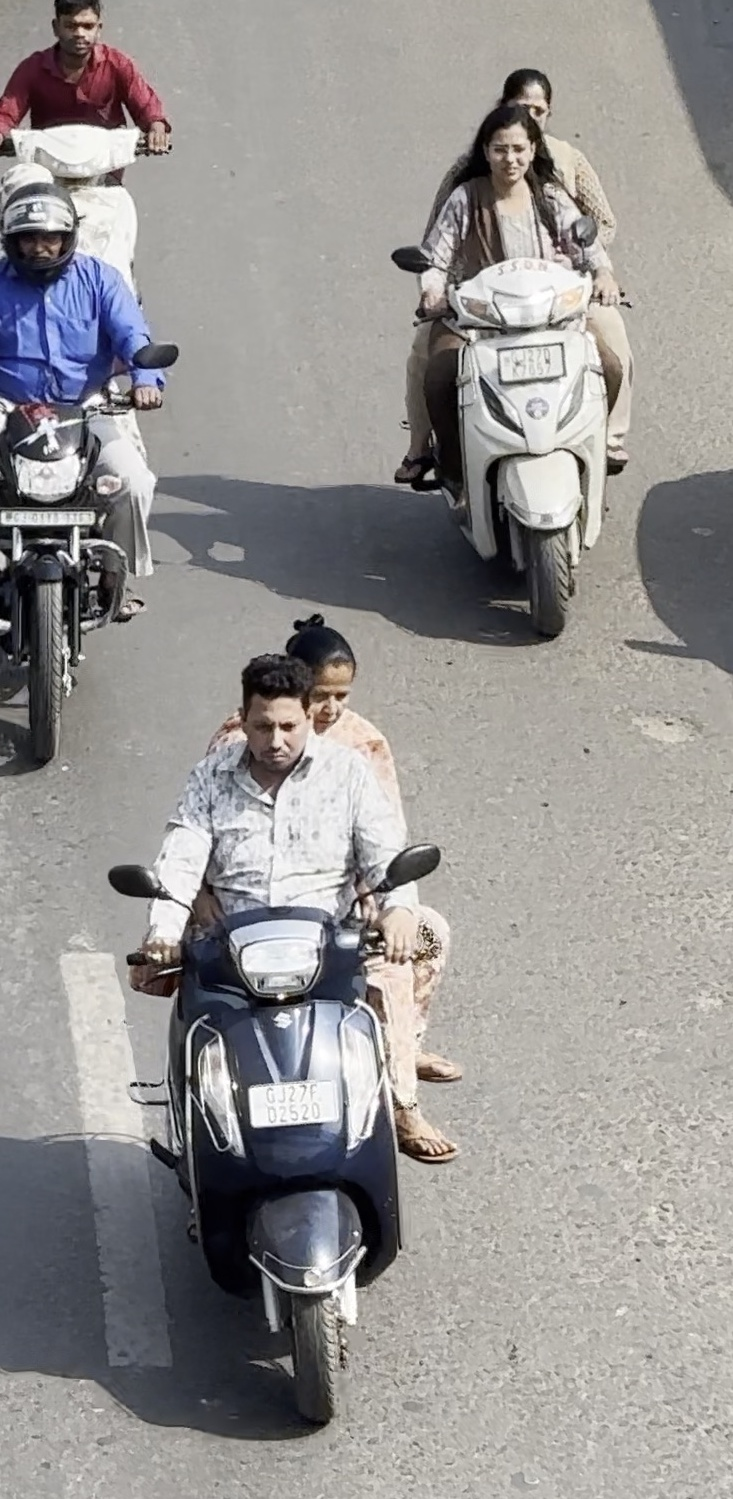BikeWithRider: (93, 599, 476, 1437), (368, 51, 654, 649), (0, 156, 191, 786), (0, 0, 191, 356)
Helmet: (0, 183, 88, 293)
NoHelmet: (262, 601, 372, 739), (225, 645, 324, 781), (473, 104, 548, 192), (491, 60, 564, 132), (44, 0, 114, 66)
